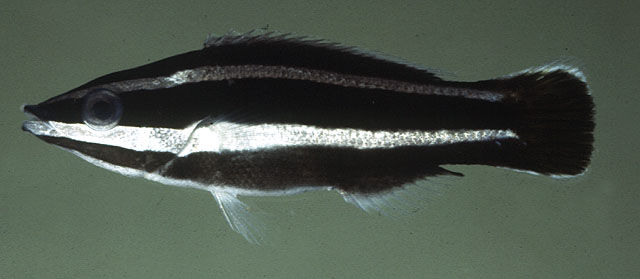fish: (19, 26, 597, 247)
